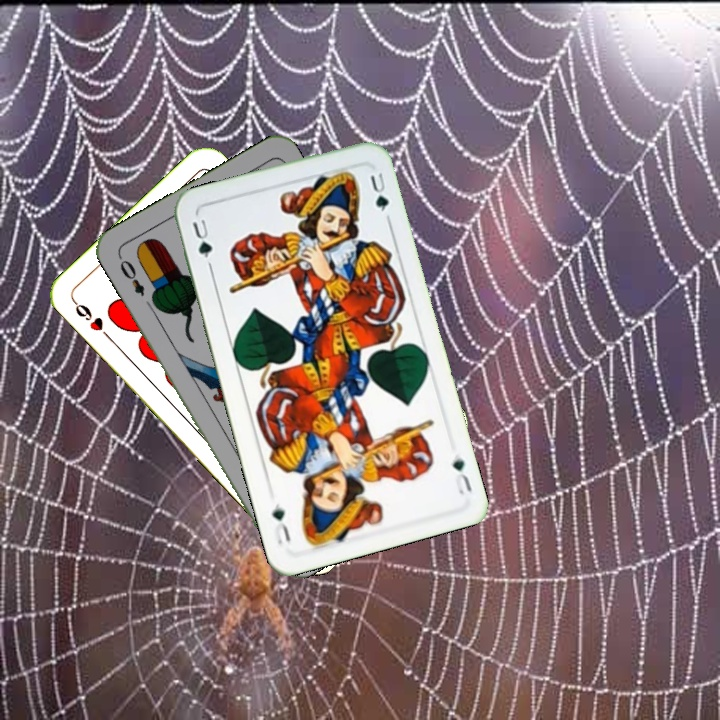EO: (114, 252, 148, 299)
GU: (448, 450, 474, 498), (188, 215, 215, 261)
H9: (68, 296, 114, 343)
